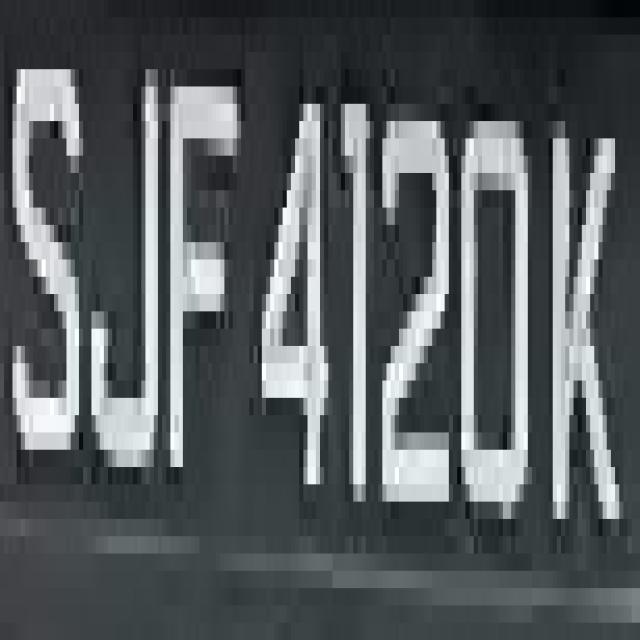0: (453, 52, 528, 571)
1: (341, 52, 374, 519)
2: (374, 86, 457, 554)
4: (245, 35, 337, 536)
F: (158, 52, 241, 484)
J: (83, 35, 166, 467)
K: (540, 104, 619, 571)
S: (8, 0, 92, 519)
